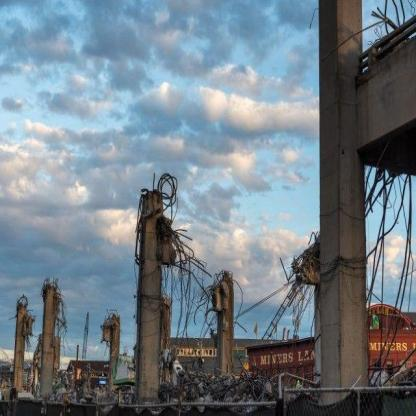rebar: (369, 161, 413, 339), (166, 228, 216, 335), (319, 8, 399, 65), (287, 230, 322, 285), (45, 273, 69, 344), (18, 288, 34, 338)
